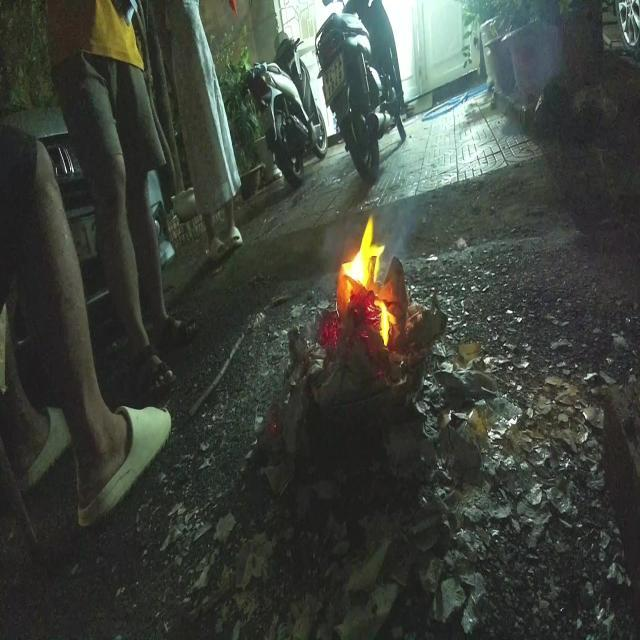Fire: (338, 214, 398, 346)
